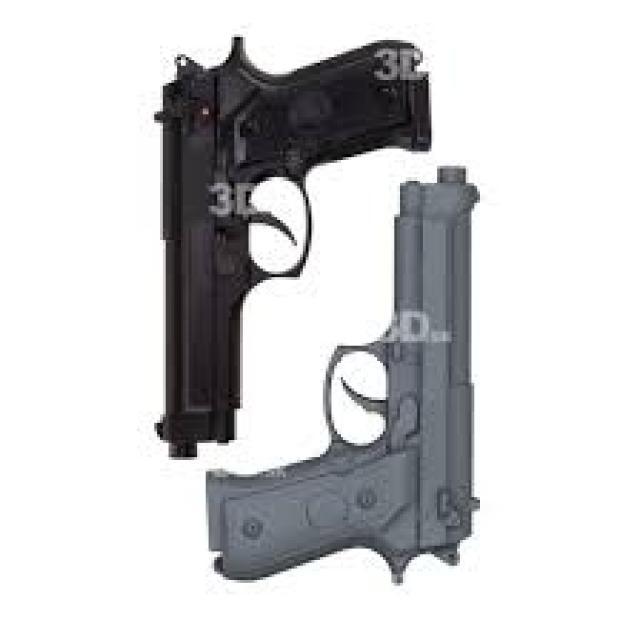Gun: (207, 106, 553, 580), (162, 15, 432, 458)
